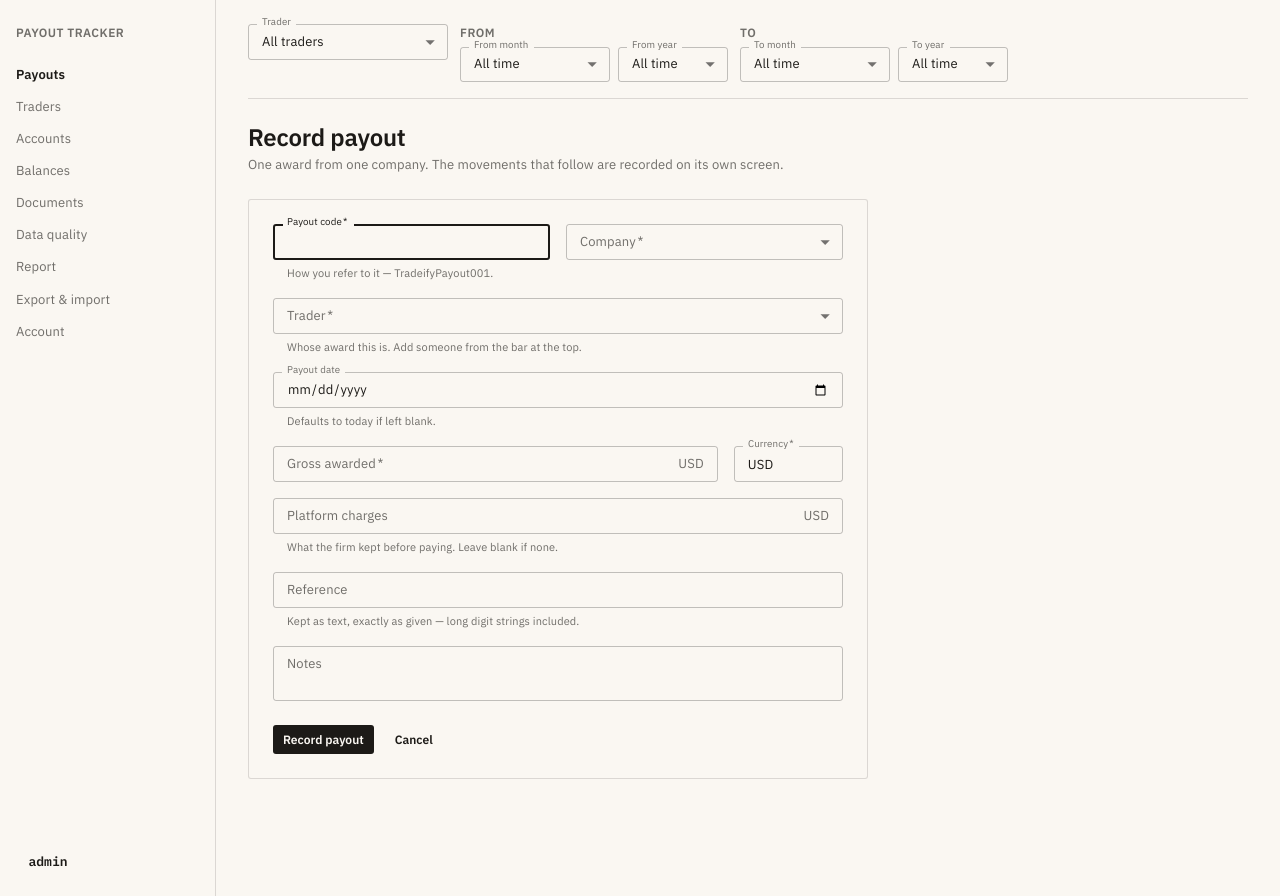
Test: recording a payout › confirms in the words the button used
The width and height of the screenshot is (1280, 896).
Expected: the heading "Record payout" is shown, [248, 121, 406, 153]
Type "TradeifyPayout002" into the field labelled "Payout code *" at (412, 242), box [273, 224, 550, 260]
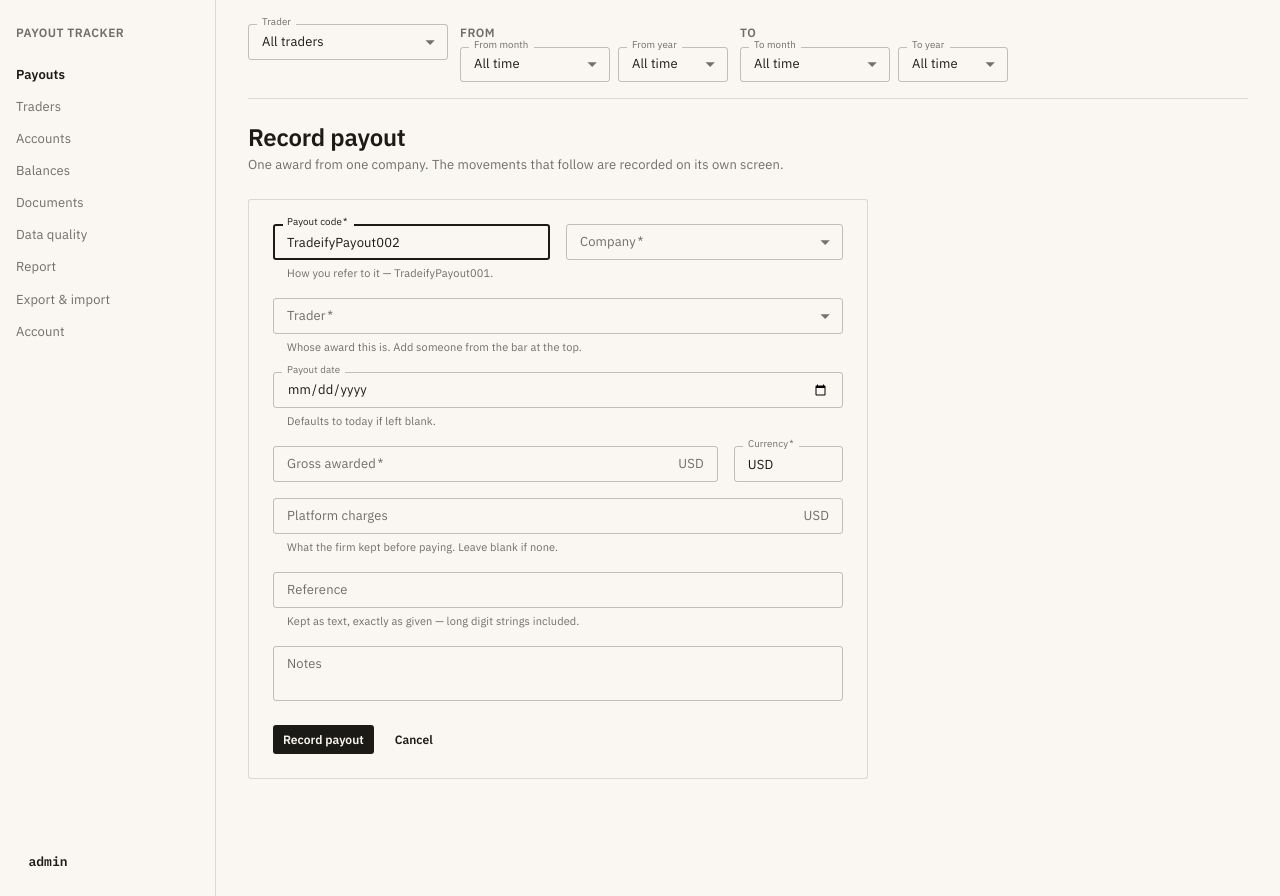
Type "1008.01" into the field labelled "Gross awarded *" at (472, 464), box [273, 446, 670, 482]
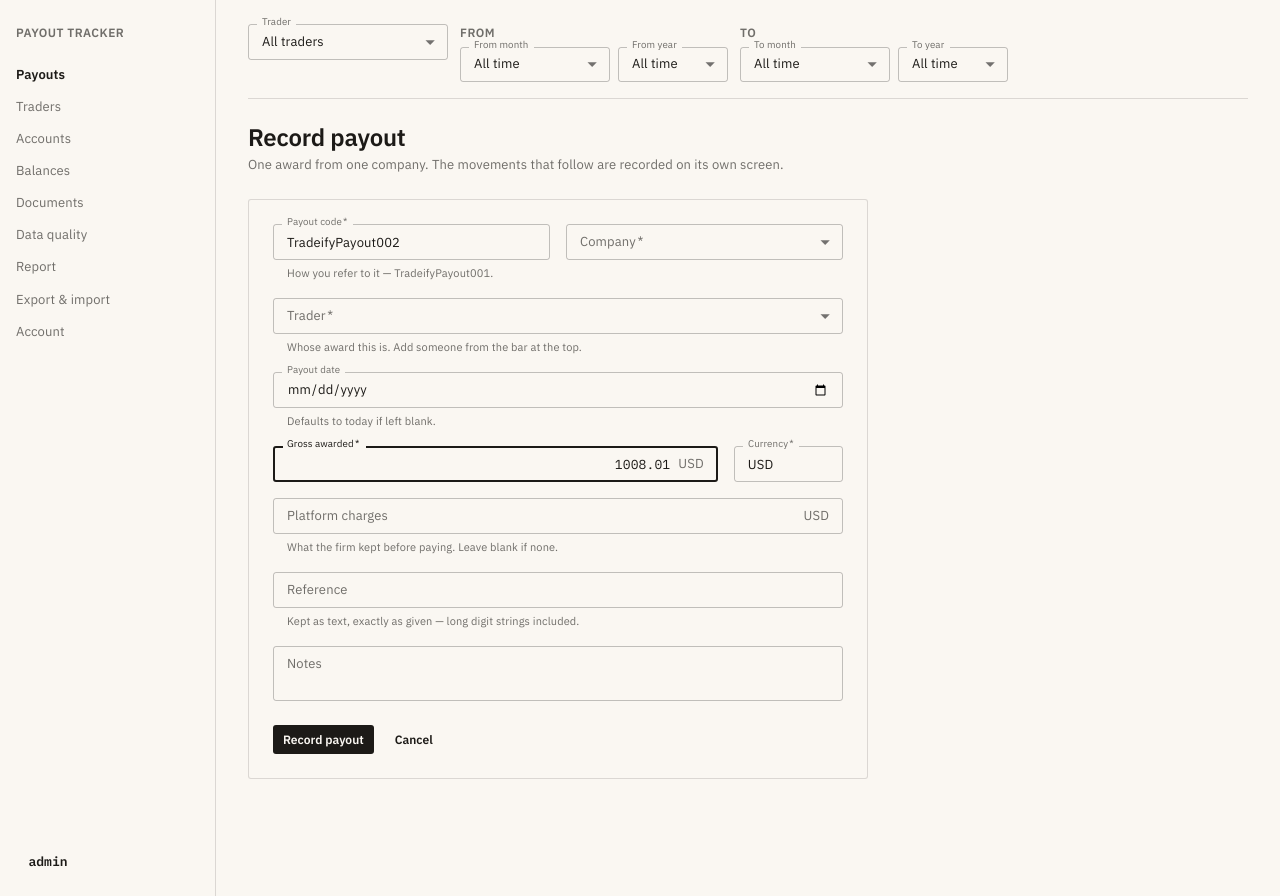
Click the button "Record payout" at (323, 739), box [273, 725, 374, 754]
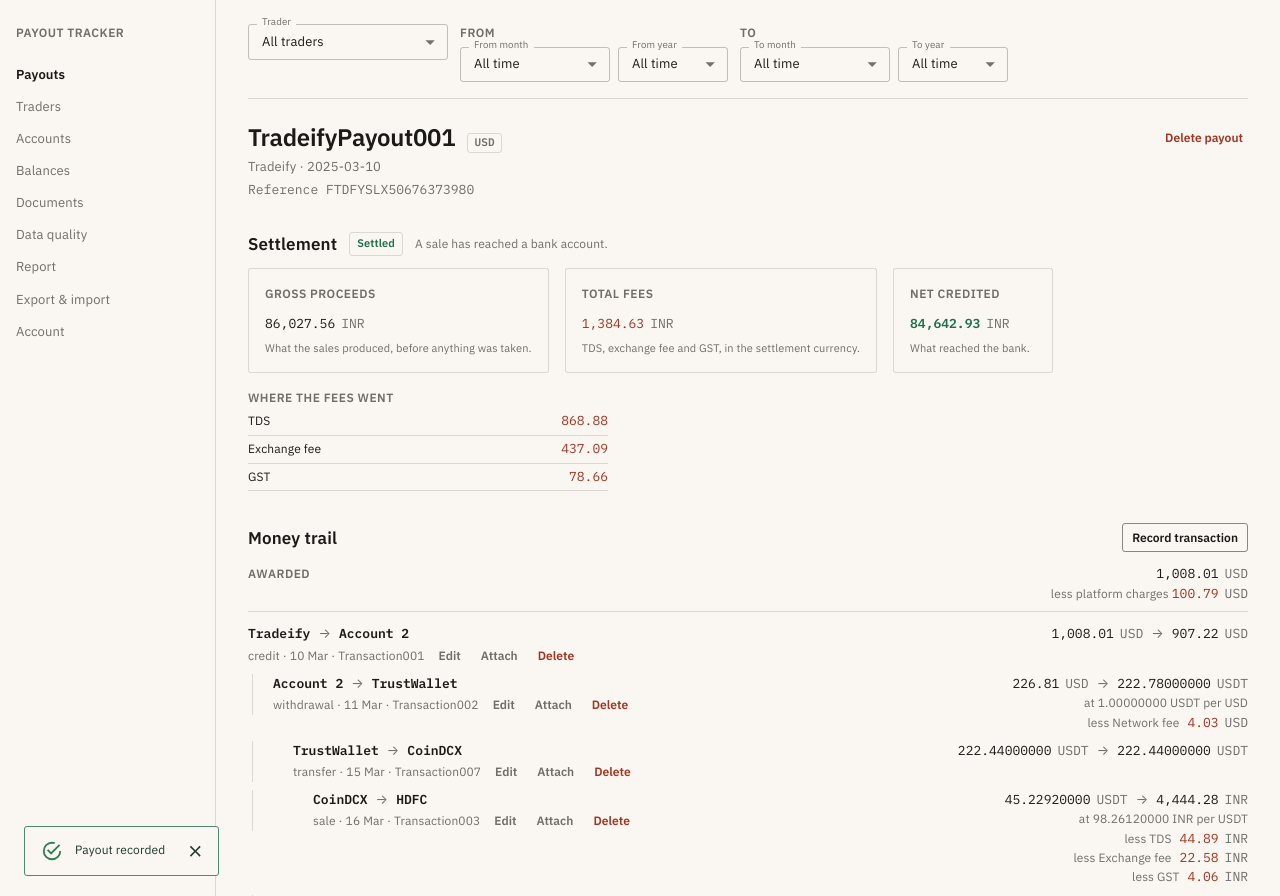
Result: the text "Payout recorded" is shown at [75, 842, 165, 857]
